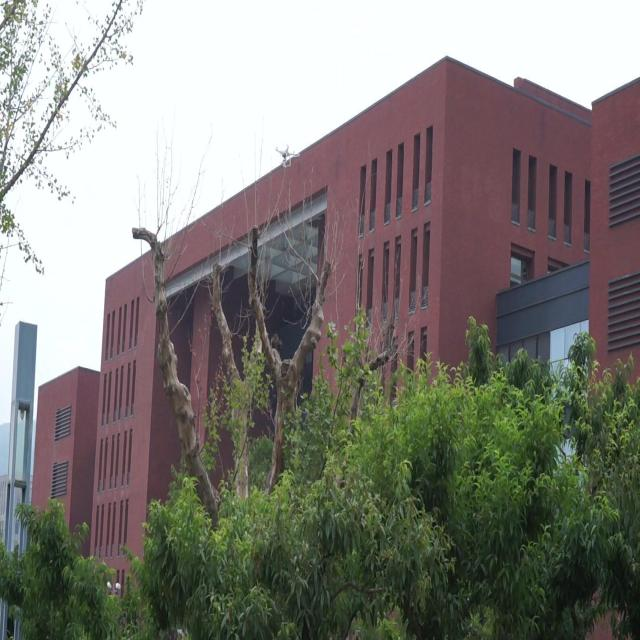drone: (272, 144, 298, 168)
